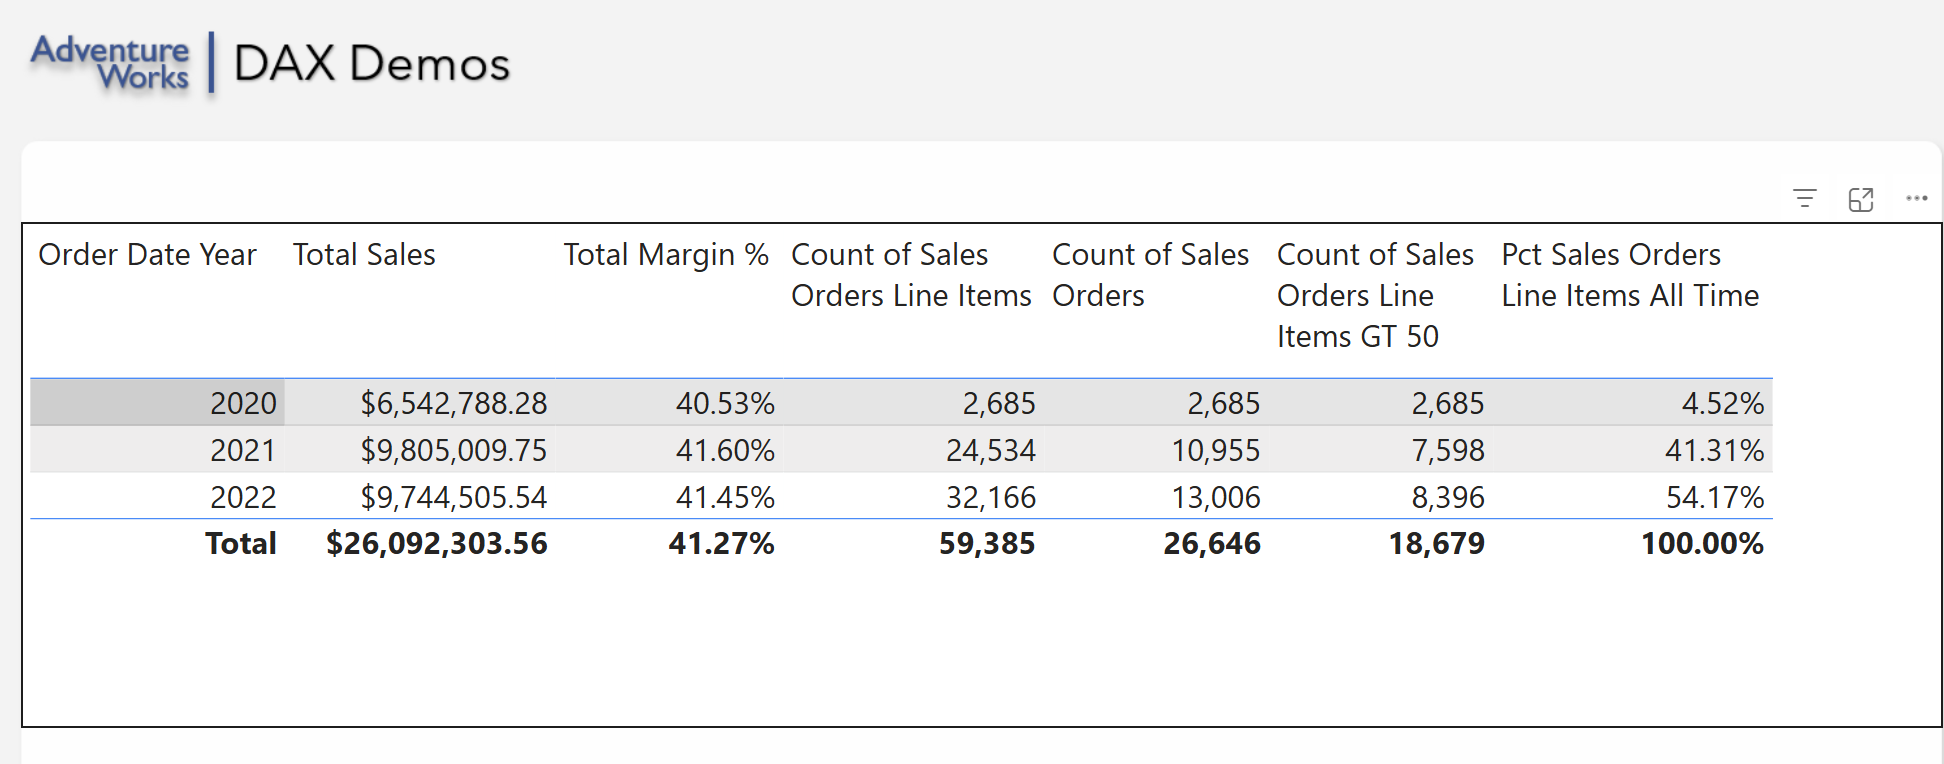

What the dashboard file says about the page in this screenshot:
{"tool":"powerbi","page":{"name":"DAX Demos","canvas":[1280,720],"ordinal":1},"visuals":[{"type":"tableEx","fields":{"Values":["Order Date.Order Date Year","Sales.Total Sales","Sales.Total Margin %","Sales.Count of Sales Orders Line Items","Sales.Count of Sales Orders","Sales.Count of Sales Orders Line Items GT 50","Sales.Pct Sales Orders Line Items All Time"]},"box":[23.3,156.7,1235,325],"z":0}]}

Visuals, with their boxes on the page's 1280x720 design canvas (x1, y1, x2, y2). These are canvas units, not pixel positions in the 1944x764 screenshot, which may show the page scaled, cropped or inside an application window:
tableEx - Order Date.Order Date Year x Sales.Total Sales: {"x1": 23, "y1": 157, "x2": 1258, "y2": 482}
